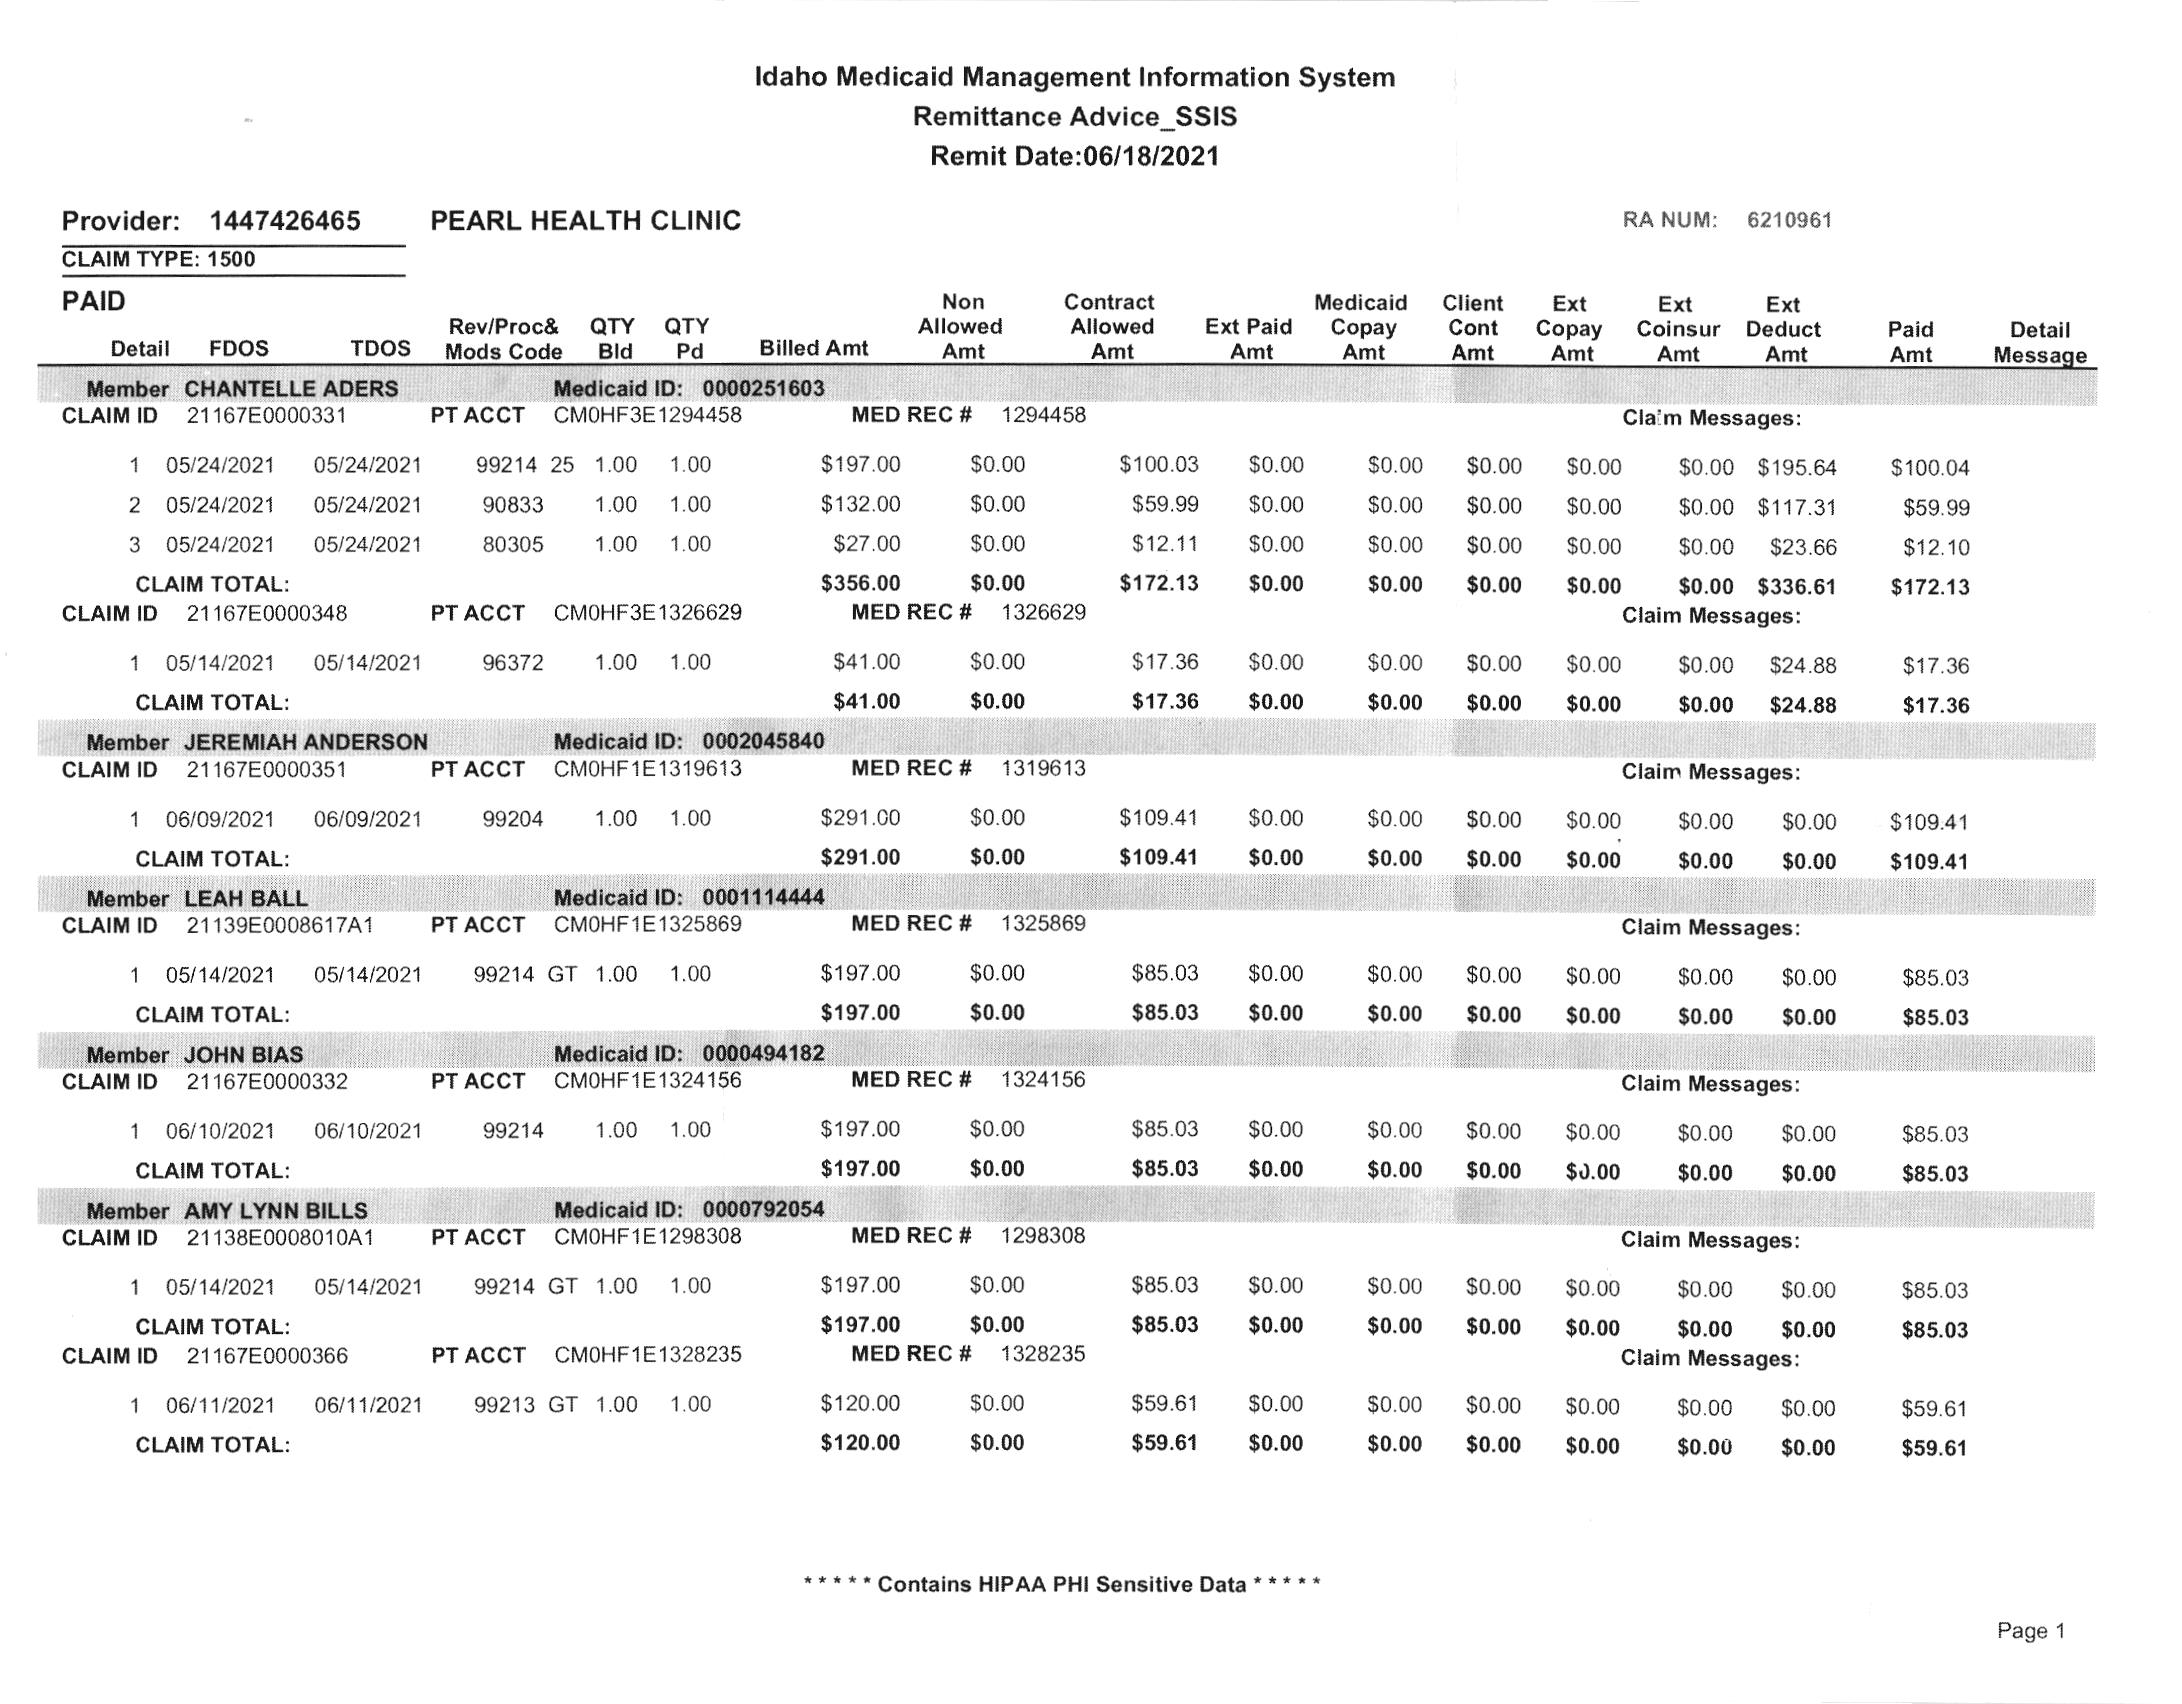table: (32, 275, 2131, 1493)
